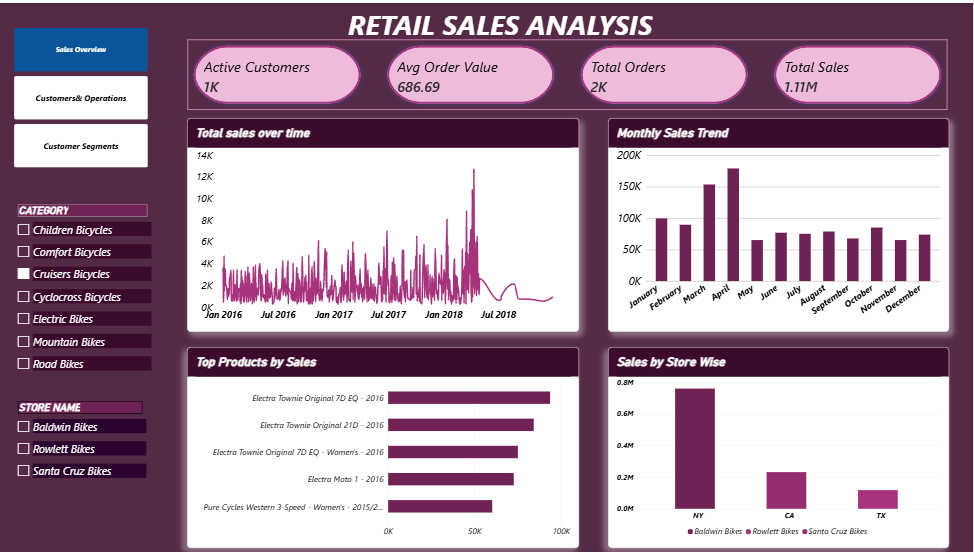

What the dashboard file says about the page in this screenshot:
{"tool":"powerbi","page":{"name":" Sales Overview ","canvas":[1920,1080],"ordinal":0},"visuals":[{"type":"lineChart","title":"Total sales over time","fields":{"Category":["capstone orders.ORDER_DATE.Variation.Date Hierarchy.Year","capstone orders.ORDER_DATE.Variation.Date Hierarchy.Quarter","capstone orders.ORDER_DATE.Variation.Date Hierarchy.Month","capstone orders.ORDER_DATE.Variation.Date Hierarchy.Day"],"Y":["capstone order_items.Total Sales"]},"box":[377,225.8,769.7,420.2],"z":0},{"type":"columnChart","title":"Monthly Sales Trend  ","fields":{"Category":["capstone orders.ORDER_DATE.Variation.Date Hierarchy.Month"],"Y":["capstone order_items.Total Sales"]},"box":[1203.7,225.8,669.6,420.2],"z":1000},{"type":"barChart","title":"Top Products by Sales","fields":{"Category":["capstone products.PRODUCT_NAME"],"Y":["Sum(capstone order_items.TOTAL_PRICE)"]},"box":[377,675.5,769.7,394.7],"z":3000},{"type":"textbox","box":[60.5,0,576.7,19.4],"z":5001},{"type":"textbox","box":[694,4.3,918,90.7],"z":5002},{"type":"cardVisual","fields":{"Data":["capstone customers.Active Customers","capstone orders.Avg Order Value","capstone orders.Total Orders","capstone order_items.Total Sales"]},"box":[377.8,70.2,1494.7,140.4],"z":5004},{"type":"columnChart","title":"Sales by Store Wise","fields":{"Category":["capstone customers.STATE"],"Series":["capstone stores.STORE_NAME"],"Y":["capstone order_items.Total Sale 1"]},"box":[1203.7,675.5,669.6,394.7],"z":5005},{"type":"slicer","fields":{"Values":["capstone category.CATEGORY_NAME"]},"box":[37.3,394.7,270,335],"z":5006},{"type":"pageNavigator","box":[37.3,49.1,263.5,276.5],"z":5007},{"type":"slicer","fields":{"Values":["capstone stores.STORE_NAME"]},"box":[37.2,782.5,260,182.5],"z":5008}]}

Visuals, with their boxes in screenshot pixels (x1, y1, x2, y2), scaled from the page's 1920x1080 canvas onto the 974x552 screenshot:
"Total sales over time" lineChart: <region>191, 115, 582, 330</region>
"Monthly Sales Trend  " columnChart: <region>611, 115, 950, 330</region>
"Top Products by Sales" barChart: <region>191, 345, 582, 547</region>
textbox: <region>31, 0, 323, 10</region>
textbox: <region>352, 2, 818, 49</region>
cardVisual - capstone customers.Active Customers x capstone orders.Avg Order Value: <region>192, 36, 950, 108</region>
"Sales by Store Wise" columnChart: <region>611, 345, 950, 547</region>
slicer - capstone category.CATEGORY_NAME: <region>19, 202, 156, 373</region>
pageNavigator: <region>19, 25, 153, 166</region>
slicer - capstone stores.STORE_NAME: <region>19, 400, 151, 493</region>
